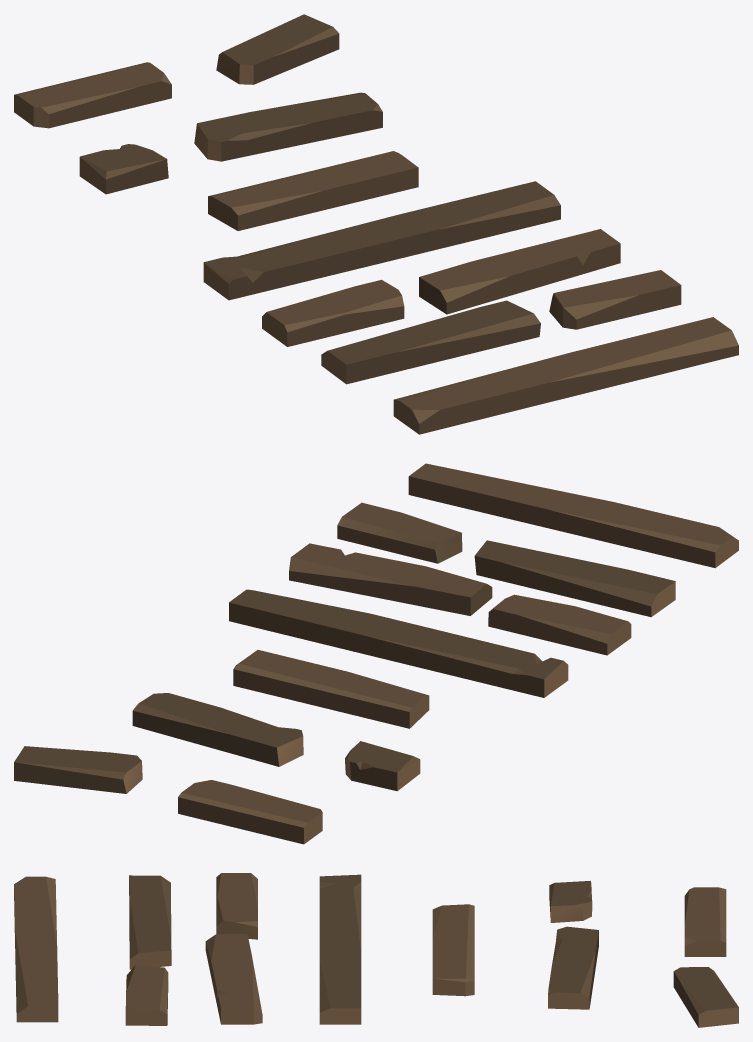
The model's file is 20C_BG_ground_5M_02.fbx.
The picture shows the model from 3 angles, top to bottom: view 1: azimuth 30°, elevation 25°; view 2: azimuth 150°, elevation 25°; view 3: azimuth 270°, elevation 25°; orthographic projection. The views are drawn at different scales.
Parts seen in each view (by area): view 1: 20C_BG_ground_5M_02; view 2: 20C_BG_ground_5M_02; view 3: 20C_BG_ground_5M_02.
Boxes of the visible parts, x1=… form: 20C_BG_ground_5M_02: x1=14, y1=14, x2=738, y2=434; 20C_BG_ground_5M_02: x1=14, y1=463, x2=738, y2=844; 20C_BG_ground_5M_02: x1=14, y1=873, x2=738, y2=1027.
Size of the model in its own units: 41.47 by 2.27 by 91.66.
